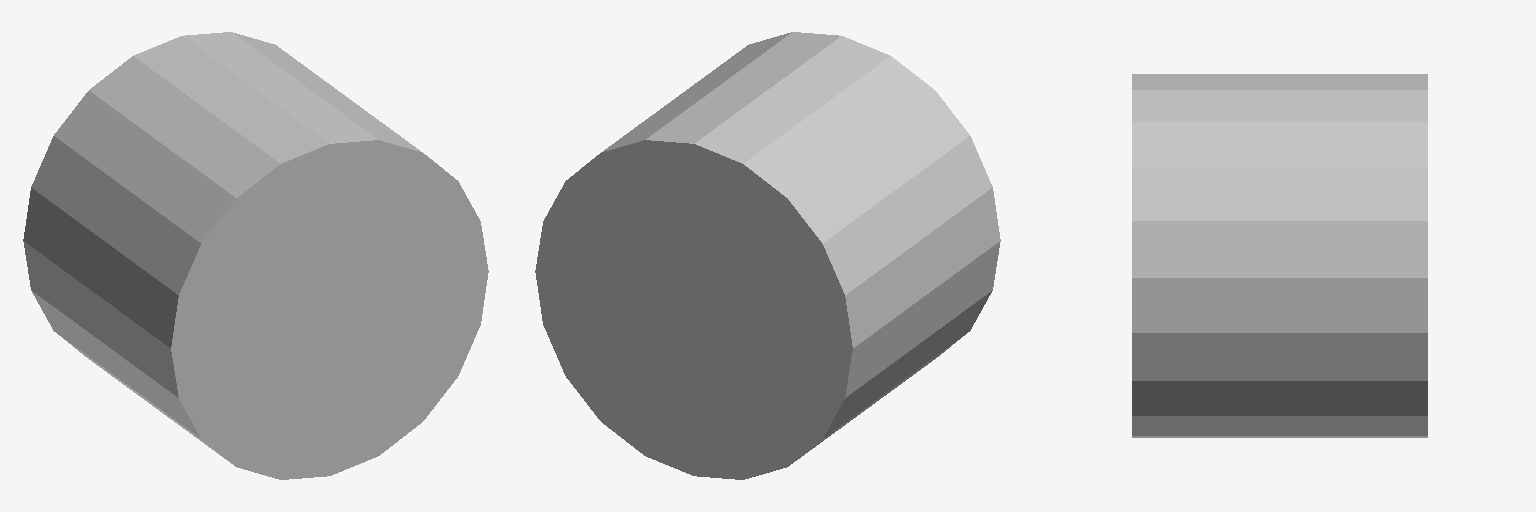
The model's file is Resaltado_Nervio_occipital_menor_I_1.obj.
The picture shows the model from 3 angles: view 1: azimuth 30°, elevation 25°; view 2: azimuth 150°, elevation 25°; view 3: azimuth 270°, elevation 25°; orthographic projection.
Parts seen in each view (by area): view 1: polySurface41 polySurface25 Marcadores1; view 2: polySurface41 polySurface25 Marcadores1; view 3: polySurface41 polySurface25 Marcadores1.
Boxes of the visible parts, x1=… form: polySurface41 polySurface25 Marcadores1: x1=23, y1=32, x2=488, y2=479; polySurface41 polySurface25 Marcadores1: x1=535, y1=32, x2=1000, y2=479; polySurface41 polySurface25 Marcadores1: x1=1132, y1=74, x2=1427, y2=437.
Size of the model in its own units: 0.0375 by 0.0375 by 0.0302.